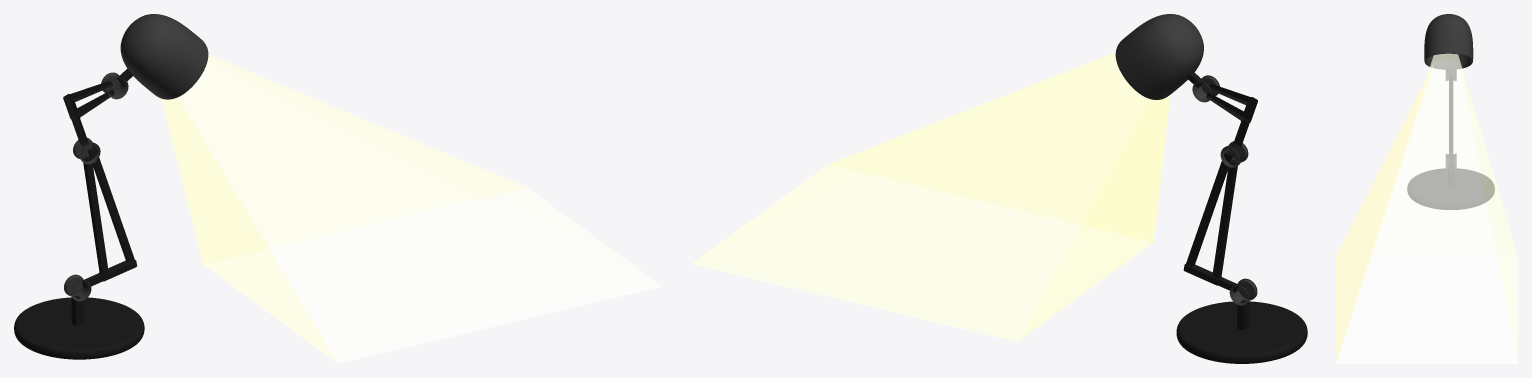
Rendered from lamp.glb.
The picture shows the model from 3 angles, left to right: view 1: azimuth 30°, elevation 25°; view 2: azimuth 150°, elevation 25°; view 3: azimuth 270°, elevation 25°; orthographic projection. The views are drawn at different scales.
Visible parts, largest first — view 1: Object_14, Object_4, Object_8; view 2: Object_14, Object_4, Object_8; view 3: Object_14, Object_4, Object_8.
Part boxes in pixels (<box>): Object_14: <box>161,54,662,363</box>; Object_4: <box>14,68,144,359</box>; Object_8: <box>64,14,208,301</box>; Object_14: <box>692,52,1170,341</box>; Object_4: <box>1176,72,1307,363</box>; Object_8: <box>1115,14,1257,305</box>; Object_14: <box>1336,53,1517,363</box>; Object_4: <box>1407,75,1494,209</box>; Object_8: <box>1424,14,1473,168</box>.
Size of the model in its own units: 2.28 by 1.22 by 0.9635.
